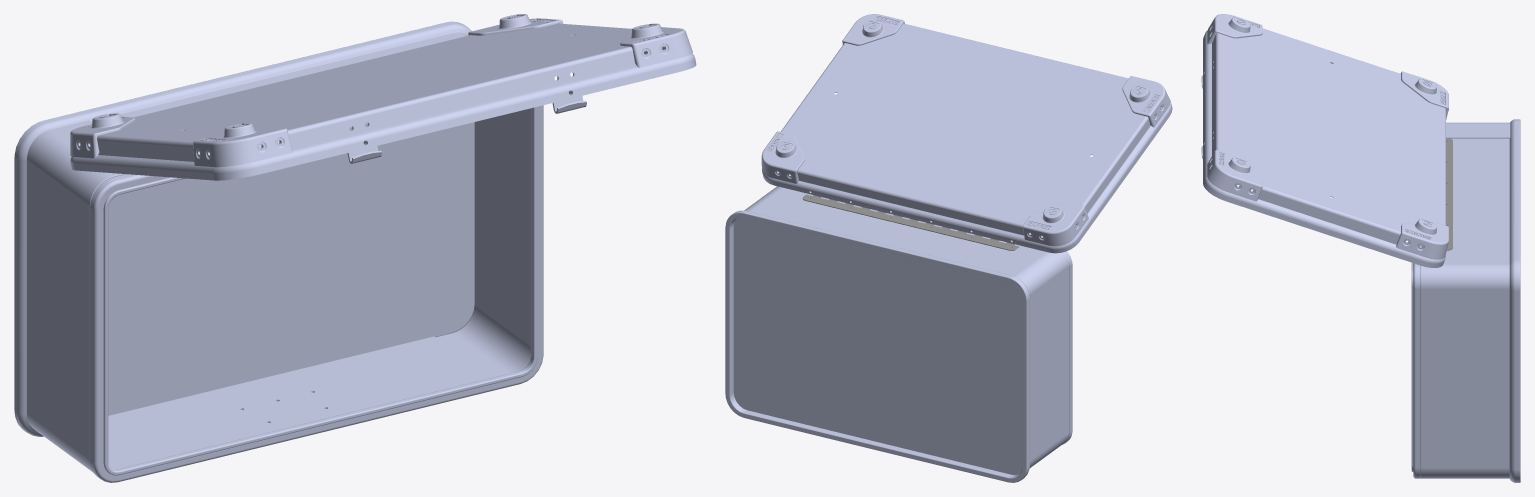
The model's file is case3.obj.
3 views of the same model, side by side, from view 1: azimuth 30°, elevation 25°; view 2: azimuth 150°, elevation 25°; view 3: azimuth 270°, elevation 25° (orthographic). The views are drawn at different scales.
Visible parts, largest first — view 1: Volumenkörper2, Volumenkörper2:1; view 2: Volumenkörper2, Volumenkörper2:1; view 3: Volumenkörper2:1, Volumenkörper2.
Boxes of the visible parts, bbox=[...] form: Volumenkörper2: bbox=[14, 21, 543, 482]; Volumenkörper2:1: bbox=[70, 14, 696, 180]; Volumenkörper2: bbox=[725, 186, 1072, 482]; Volumenkörper2:1: bbox=[761, 14, 1172, 253]; Volumenkörper2:1: bbox=[1201, 14, 1448, 267]; Volumenkörper2: bbox=[1411, 119, 1520, 482].
Size of the model in its own units: 584 by 542 by 478.
